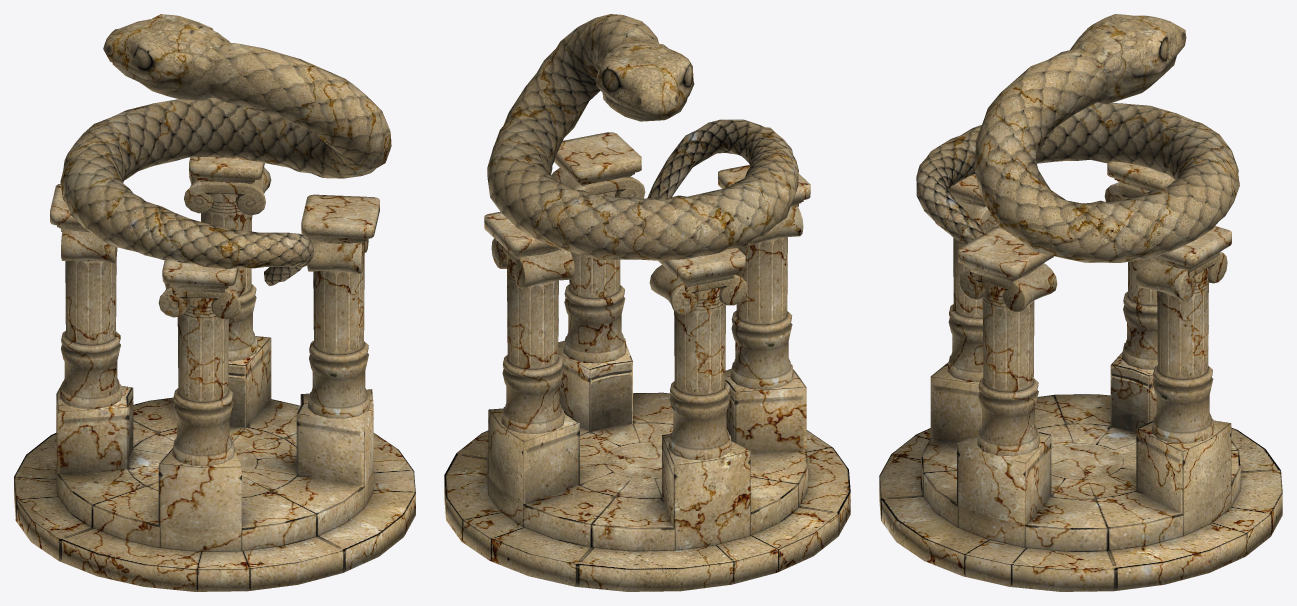
The model's file is snake.obj.
3 views of the same model, side by side, from view 1: azimuth 30°, elevation 25°; view 2: azimuth 150°, elevation 25°; view 3: azimuth 270°, elevation 25° (orthographic).
Parts seen in each view (by area): view 1: stone_Cylinder16.001, snakelp; view 2: stone_Cylinder16.001, snakelp; view 3: stone_Cylinder16.001, snakelp.
Part boxes in pixels (x1,y1,x2,y2): stone_Cylinder16.001: (14, 156, 415, 591); snakelp: (60, 14, 391, 286); stone_Cylinder16.001: (444, 132, 850, 591); snakelp: (487, 14, 798, 261); stone_Cylinder16.001: (879, 161, 1282, 591); snakelp: (916, 14, 1239, 262).
Bounding box in the file's own units: 7.15 × 9.24 × 7.15.
2 materials, 2 textured.
